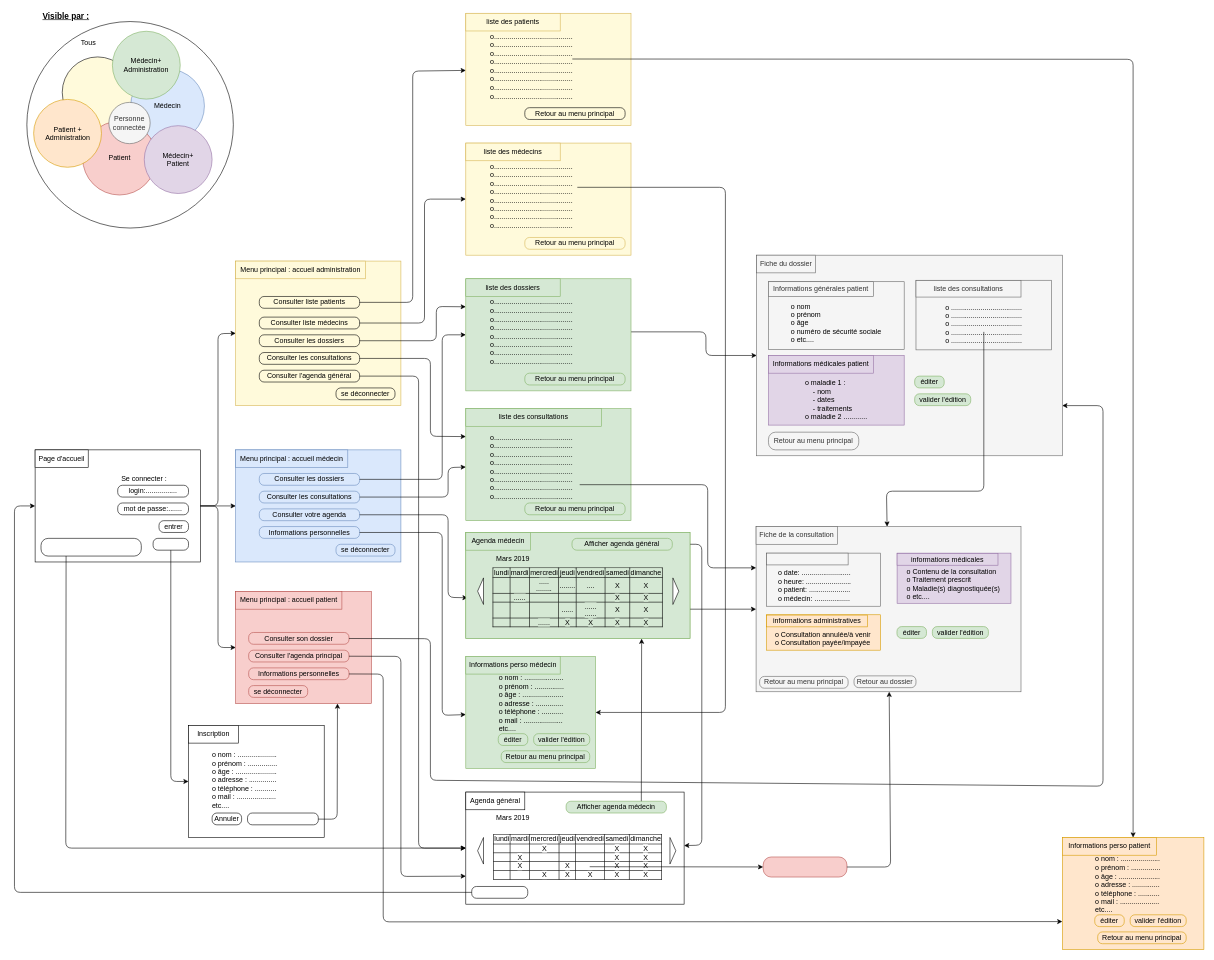
The diagram is 1214 pixels wide and 960 high, and some of its shapes have lost their labels. Each missing label, with the box of its shape:
Administration: (62, 56, 133, 128)
Consulter les disponibilités en tant que visiteur: (40, 538, 141, 556)
informations générales: (766, 553, 848, 565)
Réserver un rendez-vous: (763, 856, 847, 877)
s'inscrire: (153, 538, 189, 550)
se connecter: (471, 886, 528, 898)
valider l'inscription: (247, 812, 318, 825)
